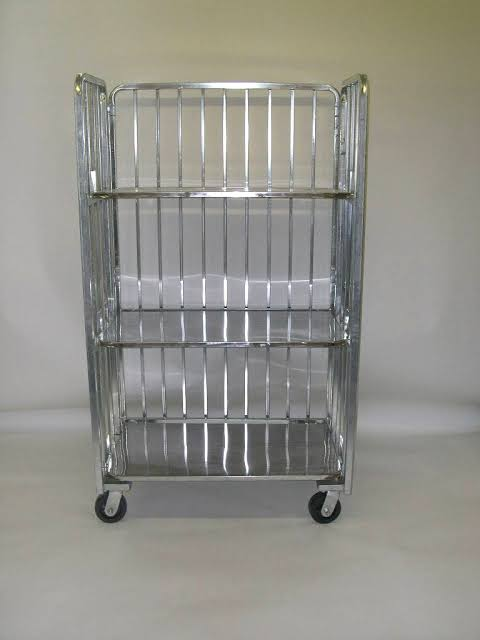Carts: (71, 71, 373, 527)
